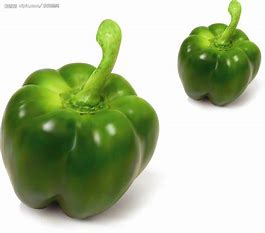fruit_pepper: (1, 18, 166, 222), (175, 1, 262, 108)
